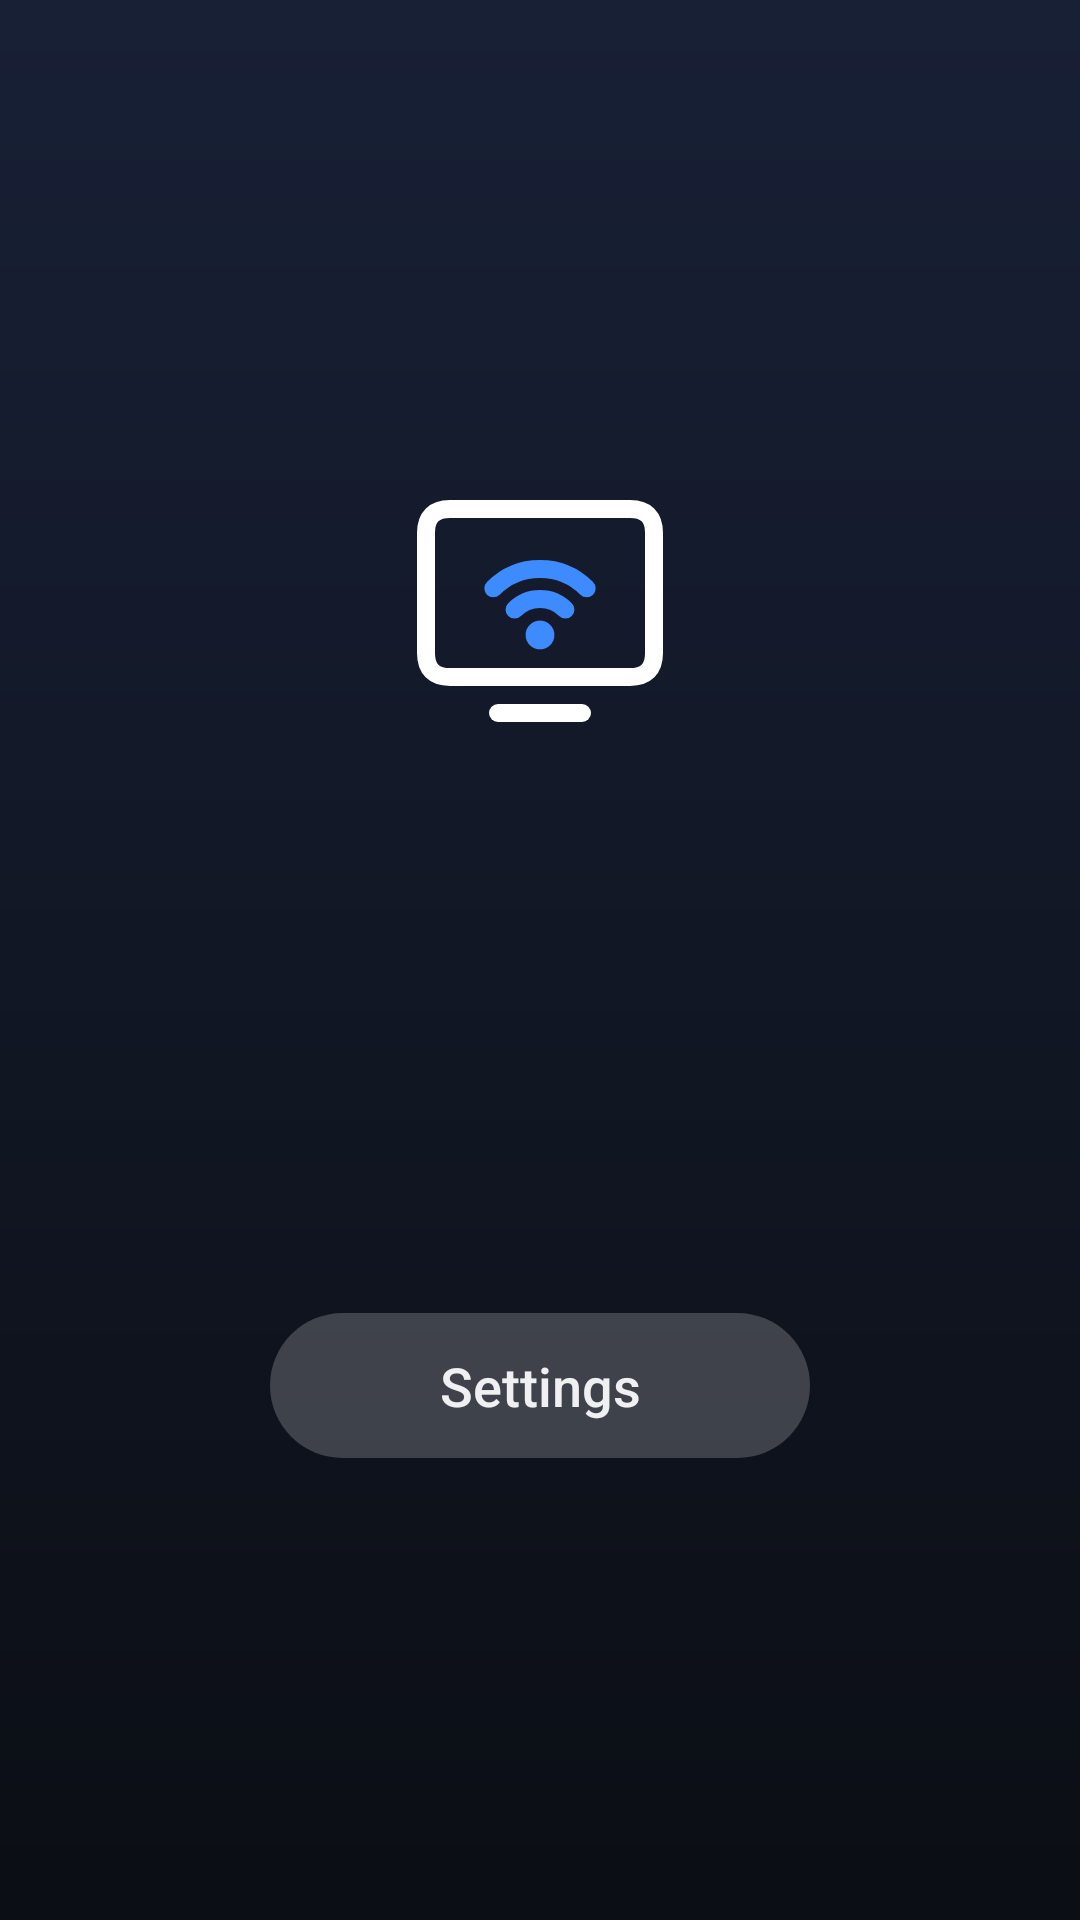

Screen size 1080 × 1920. Icon name, then its box in pixels as bbox=[x1, y1, x2, y2]:
cast screen: bbox=[417, 500, 663, 722]
